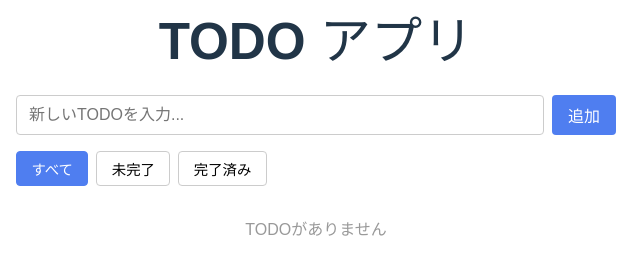
Test: App (統合テスト) › TODO を追加できる
Type "新しいTODO" into the field with placeholder "新しいTODOを入力...". click: x=280, y=115
box: top-left (16, 95), bottom-right (544, 135)
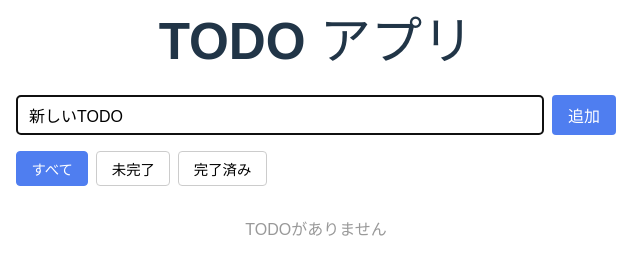
Click the button "追加". click: x=584, y=115
box: top-left (552, 95), bottom-right (616, 135)
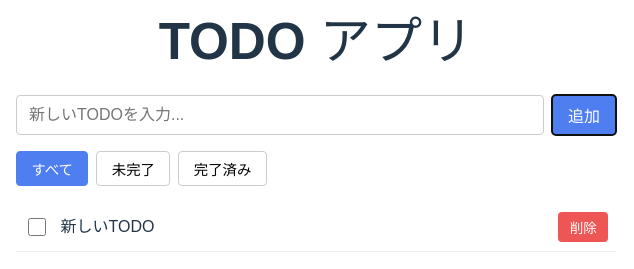
Result: the text "新しいTODO" is shown at top-left (61, 218), bottom-right (154, 235)
